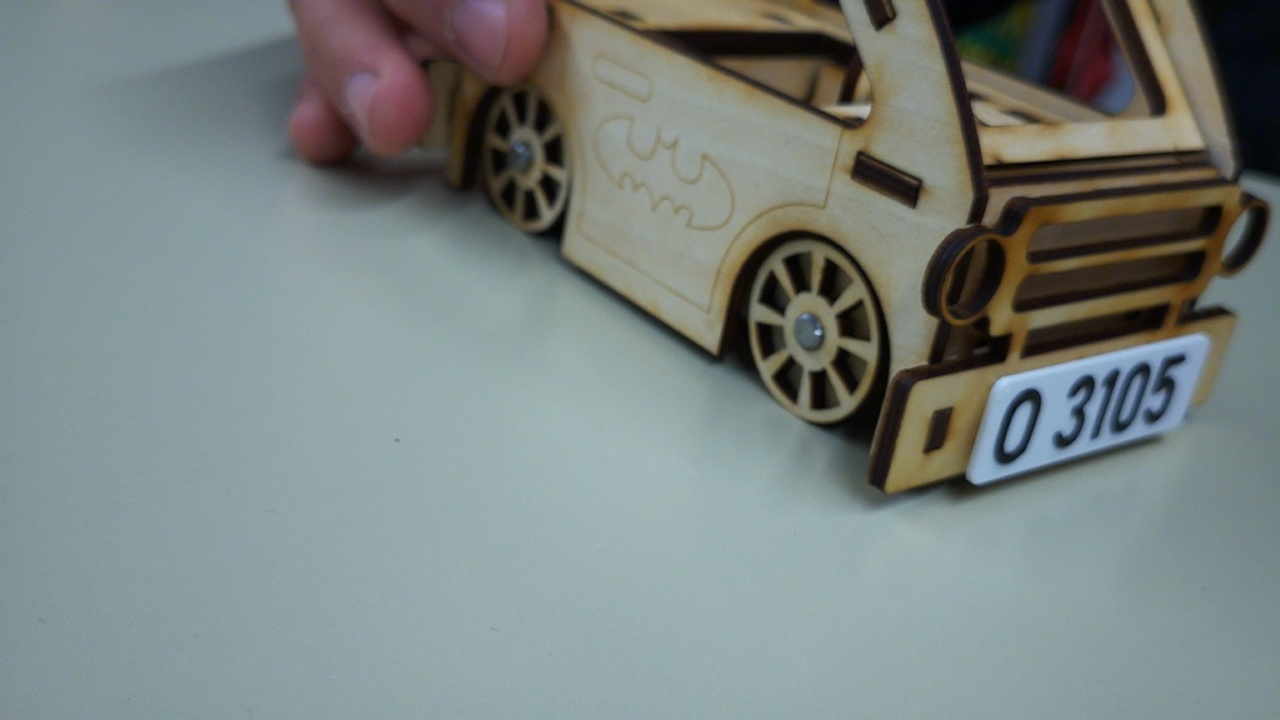license_plate: (963, 328, 1213, 487)
